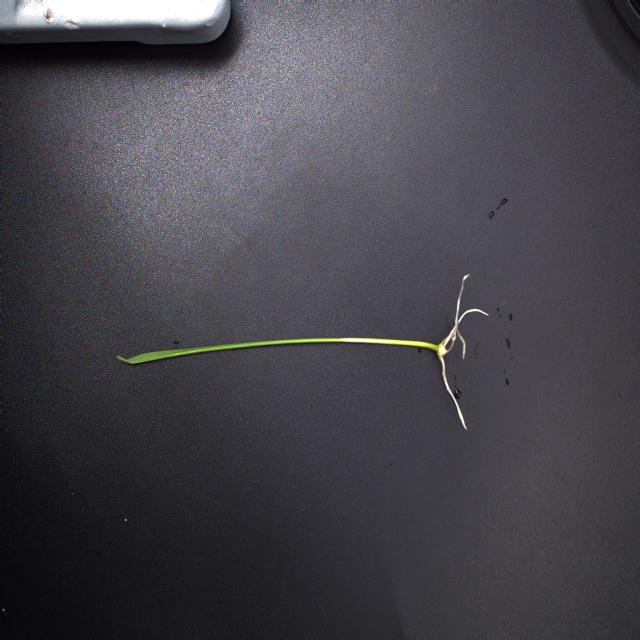root: (436, 275, 487, 430), (443, 276, 467, 355), (461, 335, 465, 352)
stem: (117, 338, 437, 364)
